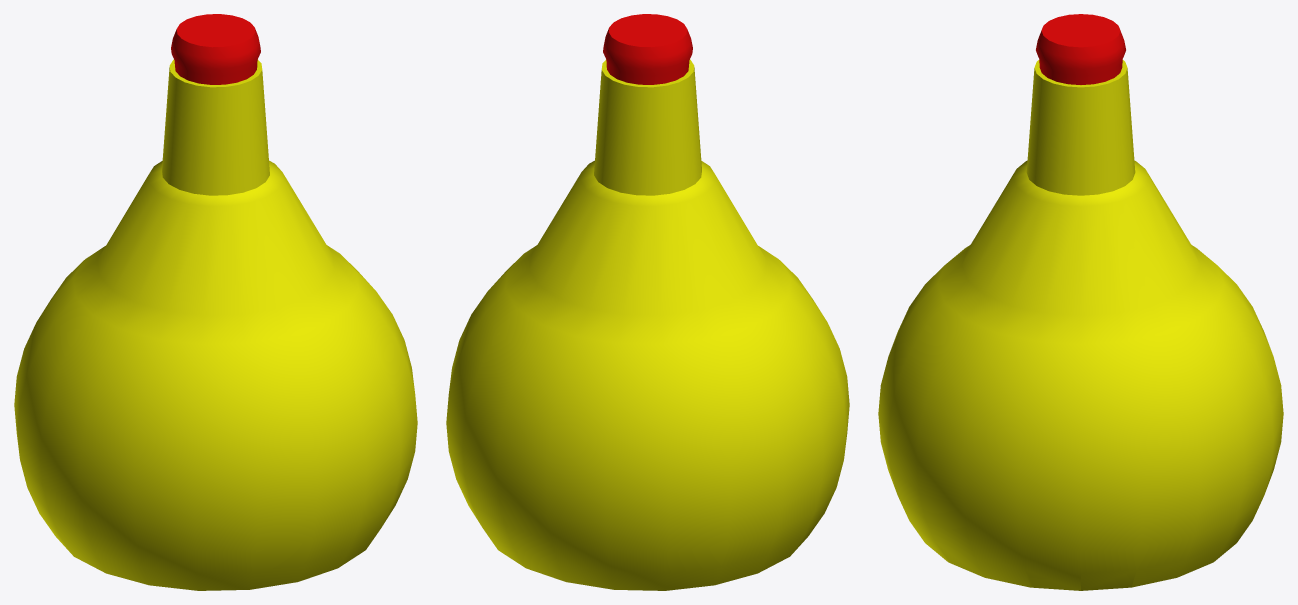
The model's file is Recharge.fbx.
3 renders of one model, left to right at view 1: azimuth 30°, elevation 25°; view 2: azimuth 150°, elevation 25°; view 3: azimuth 270°, elevation 25°, orthographic.
Parts seen in each view (by area): view 1: pSphere3, pCylinder3; view 2: pSphere3, pCylinder3; view 3: pSphere3, pCylinder3.
Boxes of the visible parts, left/top/right/bottom form: pSphere3: left=14, top=59, right=417, bottom=590; pCylinder3: left=171, top=14, right=260, bottom=84; pSphere3: left=446, top=59, right=849, bottom=590; pCylinder3: left=603, top=14, right=692, bottom=84; pSphere3: left=878, top=60, right=1283, bottom=590; pCylinder3: left=1036, top=14, right=1125, bottom=84.
Bounding box in the file's own units: 2 × 2.67 × 2.
